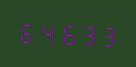four: (38, 18, 57, 46)
six: (58, 19, 77, 47), (18, 18, 37, 45)
three: (78, 20, 97, 48), (98, 21, 117, 48)
